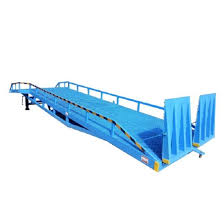Yard Ramp: (10, 81, 217, 172)
